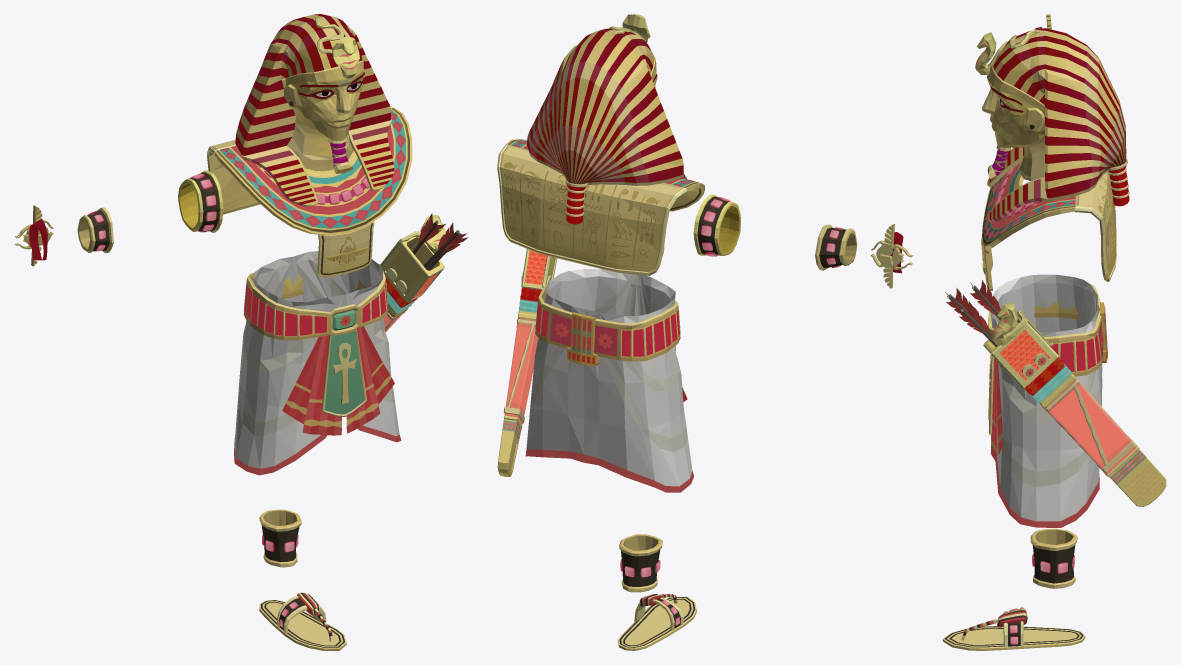
The model's file is pharaohArmor.glb.
3 renders of one model, left to right at view 1: azimuth 30°, elevation 25°; view 2: azimuth 150°, elevation 25°; view 3: azimuth 270°, elevation 25°, orthographic. The views are drawn at different scales.
Parts seen in each view (by area): view 1: pharaohArmor, pharaohMask, pharaohQuiver, pharaohSandles, pharaohBraceUpperArm, pharaohBraceLowerLeg, pharaohBraceLowerArm, maskOfTutankhamunSerpent, pharaohArmorGlove; view 2: pharaohArmor, pharaohMask, pharaohQuiver, pharaohSandles, pharaohBraceUpperArm, pharaohBraceLowerLeg, pharaohBraceLowerArm, pharaohArmorGlove, maskOfTutankhamunSerpent; view 3: pharaohArmor, pharaohMask, pharaohQuiver, pharaohSandles, pharaohBraceLowerLeg, maskOfTutankhamunSerpent.
Boxes of the visible parts, x1,y1,x2,y2 form: pharaohArmor: (207,106,412,475); pharaohMask: (235,14,394,206); pharaohQuiver: (379,213,467,332); pharaohSandles: (259,592,346,650); pharaohBraceUpperArm: (178,170,223,232); pharaohBraceLowerLeg: (259,509,301,567); pharaohBraceLowerArm: (77,207,113,253); maskOfTutankhamunSerpent: (315,18,359,78); pharaohArmorGlove: (14,205,53,266); pharaohArmor: (497,139,704,492); pharaohMask: (526,28,686,224); pharaohQuiver: (497,249,557,476); pharaohSandles: (618,594,696,650); pharaohBraceUpperArm: (693,194,740,256); pharaohBraceLowerLeg: (619,534,662,592); pharaohBraceLowerArm: (815,224,857,270); pharaohArmorGlove: (870,224,913,288); maskOfTutankhamunSerpent: (609,14,650,43); pharaohArmor: (981,162,1116,527); pharaohMask: (982,28,1129,222); pharaohQuiver: (945,280,1166,506); pharaohSandles: (942,607,1085,650); pharaohBraceLowerLeg: (1030,528,1077,588); maskOfTutankhamunSerpent: (975,29,1045,74).
Bounding box in the file's own units: 1.43 × 1.96 × 0.6393.
